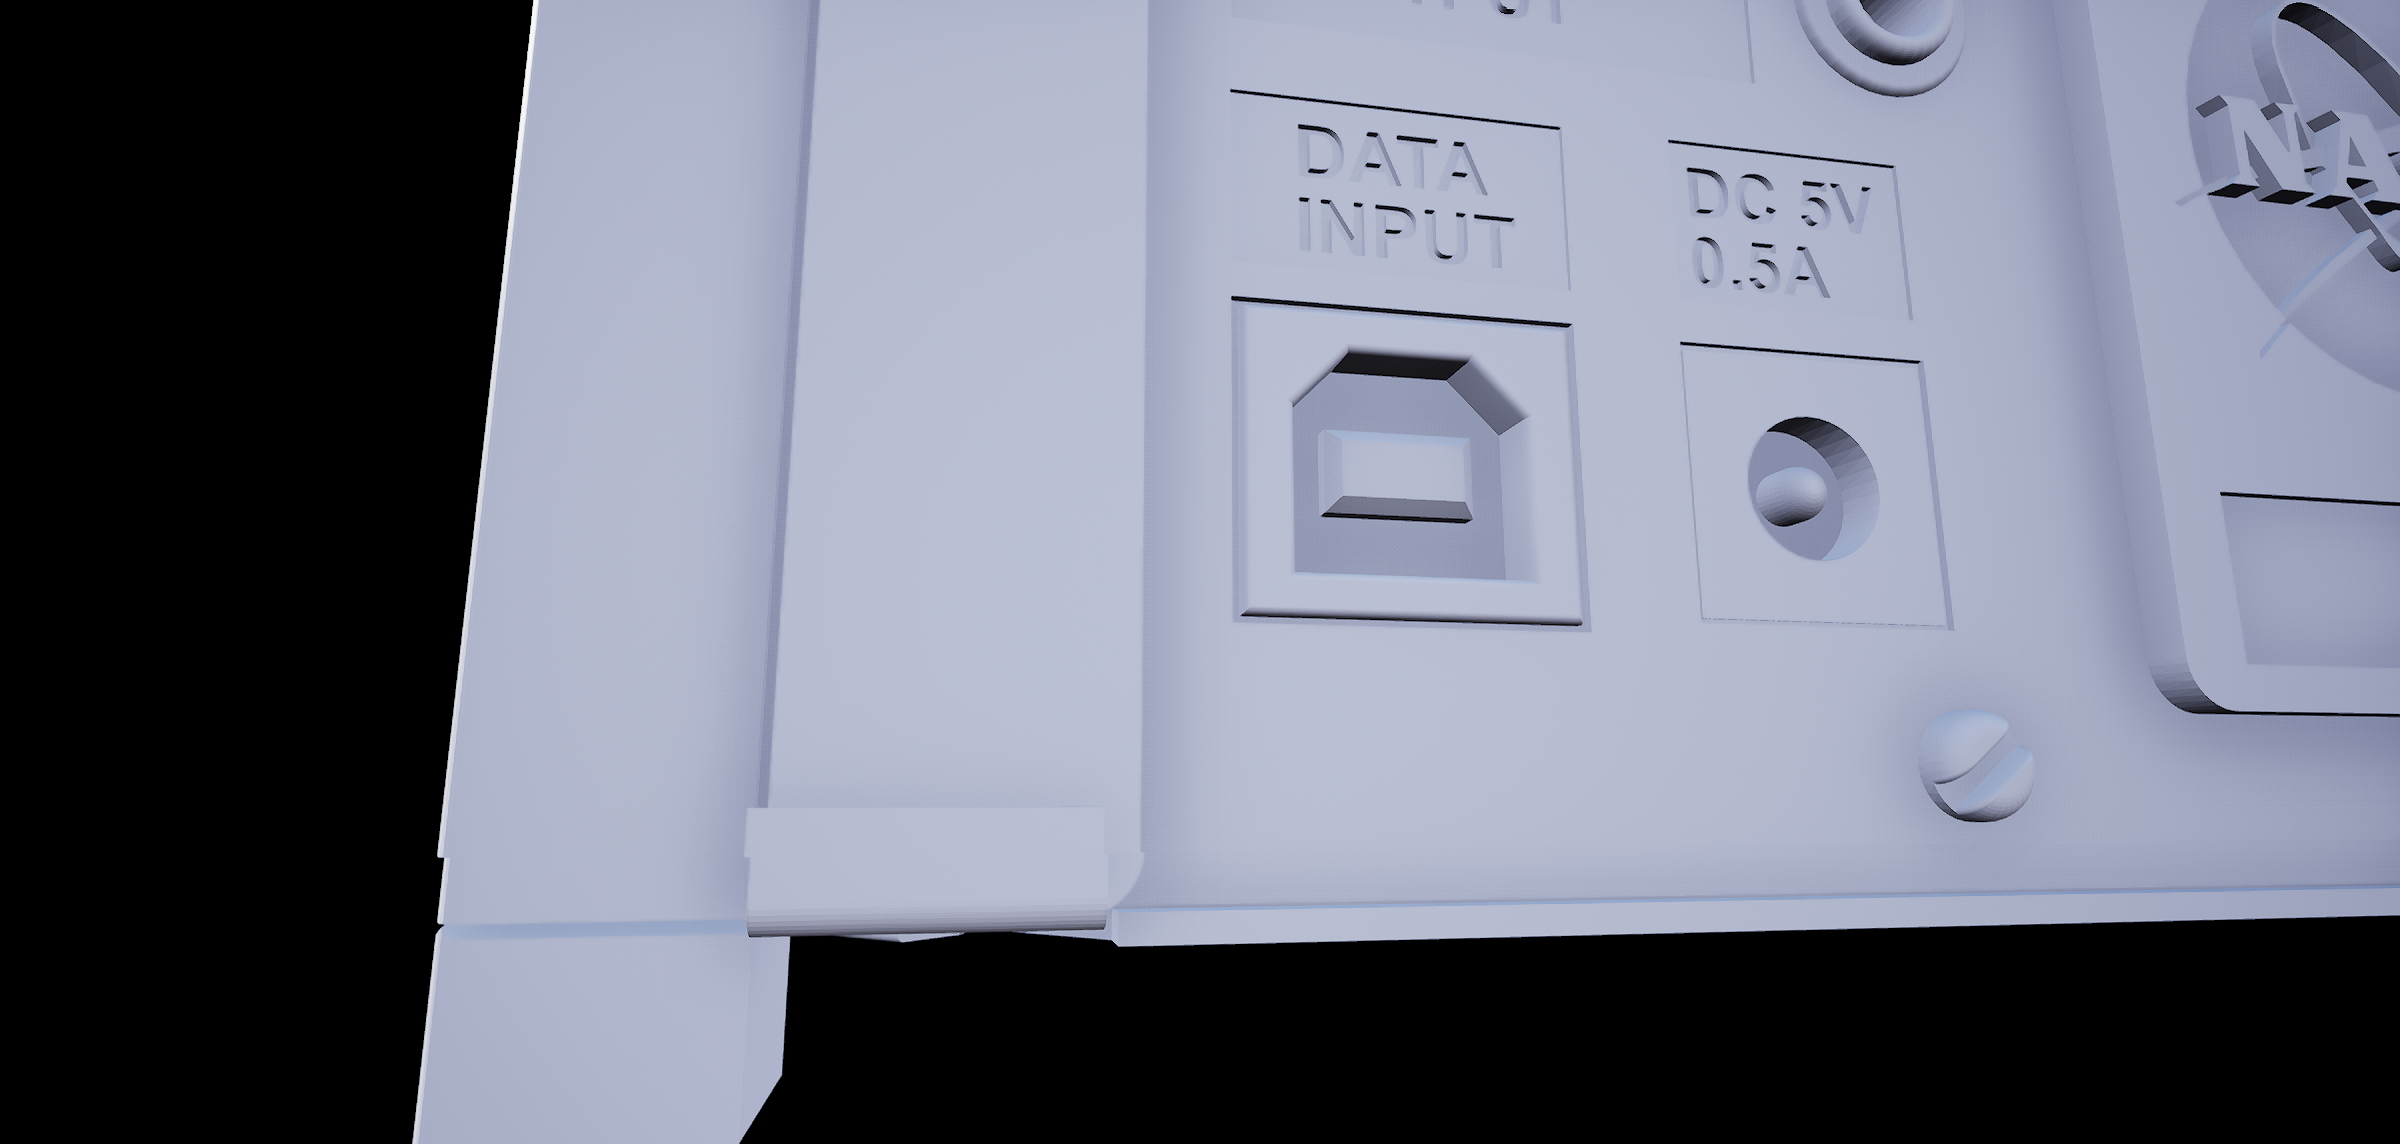aux: (1789, 2, 1981, 95)
dc: (1730, 400, 1896, 577)
usb: (1284, 317, 1563, 605)
